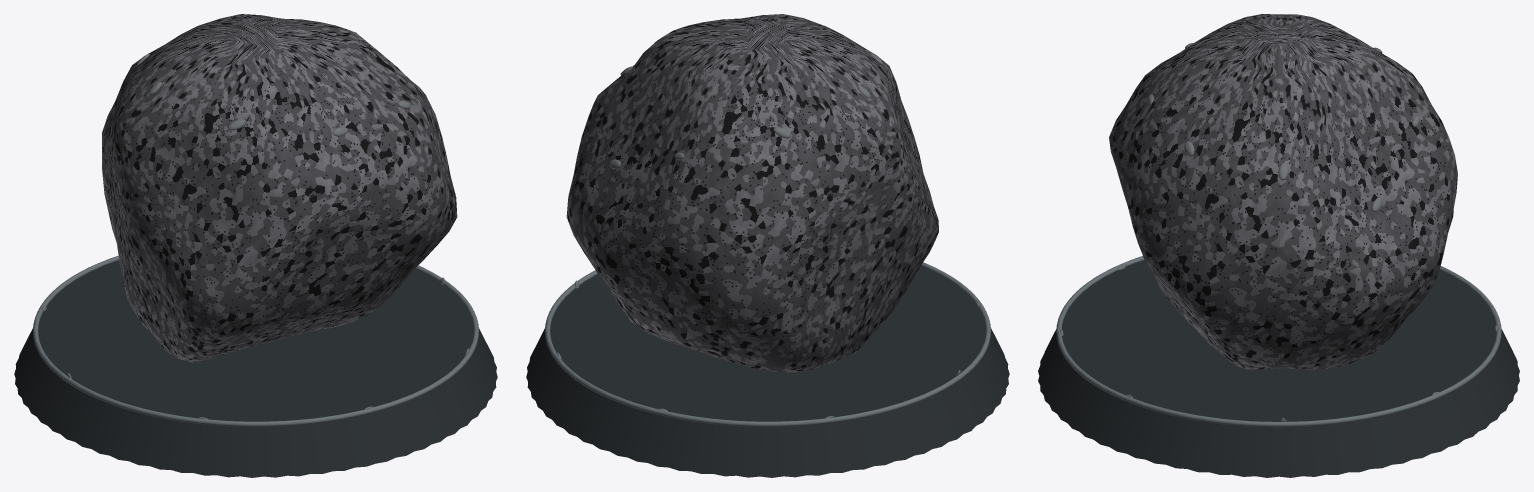
3 renders of one model, left to right at view 1: azimuth 30°, elevation 25°; view 2: azimuth 150°, elevation 25°; view 3: azimuth 270°, elevation 25°, orthographic.
Visible parts, largest first — view 1: surface specimen, neutral specimen stand, specimen edge, turned rim; view 2: surface specimen, neutral specimen stand, specimen edge, turned rim; view 3: surface specimen, neutral specimen stand, specimen edge, turned rim.
Part boxes in pixels (box(x1,y1,x2,y2)): surface specimen: box(102, 14, 457, 362); neutral specimen stand: box(14, 260, 497, 477); specimen edge: box(33, 255, 478, 426); turned rim: box(136, 54, 411, 136); surface specimen: box(566, 14, 938, 372); neutral specimen stand: box(526, 266, 1009, 477); specimen edge: box(545, 262, 990, 426); turned rim: box(609, 53, 883, 168); surface specimen: box(1109, 14, 1457, 369); neutral specimen stand: box(1038, 260, 1519, 477); specimen edge: box(1056, 256, 1501, 427); turned rim: box(1147, 43, 1420, 211).
Bounding box in the file's own units: 0.539 × 0.4213 × 0.539.
4 materials, 1 textured.
